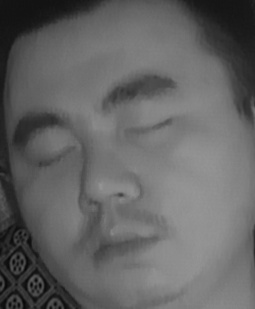blink: (129, 109, 178, 144), (36, 137, 77, 171)
mouth: (81, 215, 162, 272)
